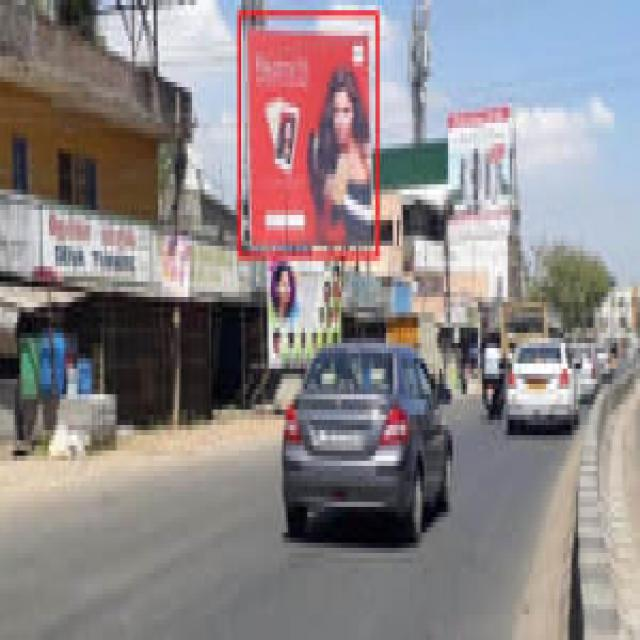Werbetafel frei: (247, 21, 376, 242), (447, 114, 511, 223)
